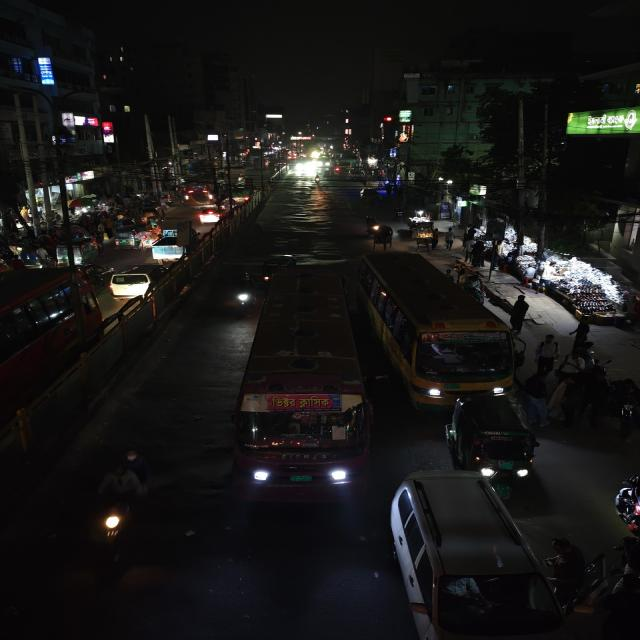bus: (230, 266, 375, 508), (355, 248, 525, 406), (0, 262, 95, 446)
car: (385, 470, 567, 640), (107, 262, 172, 300), (197, 205, 223, 225)
cng: (444, 394, 542, 480), (54, 230, 102, 264), (258, 252, 298, 286), (111, 220, 147, 250)
motorcycle: (91, 446, 150, 552), (610, 471, 640, 535), (230, 270, 257, 317), (363, 215, 383, 237)
pedestrian: (548, 534, 589, 612), (546, 375, 583, 427), (522, 374, 553, 428), (616, 532, 640, 591), (533, 332, 560, 376), (510, 294, 533, 332)
pickup_van: (149, 218, 201, 264)
